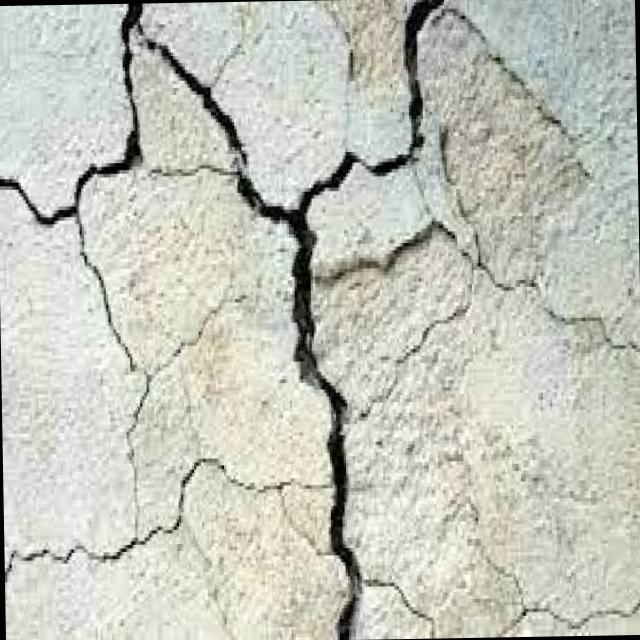crack: (284, 0, 454, 636), (70, 0, 306, 224), (313, 206, 640, 357), (5, 449, 336, 571), (138, 288, 252, 530), (439, 0, 591, 171), (487, 542, 640, 633), (76, 204, 152, 376), (0, 167, 79, 225)
